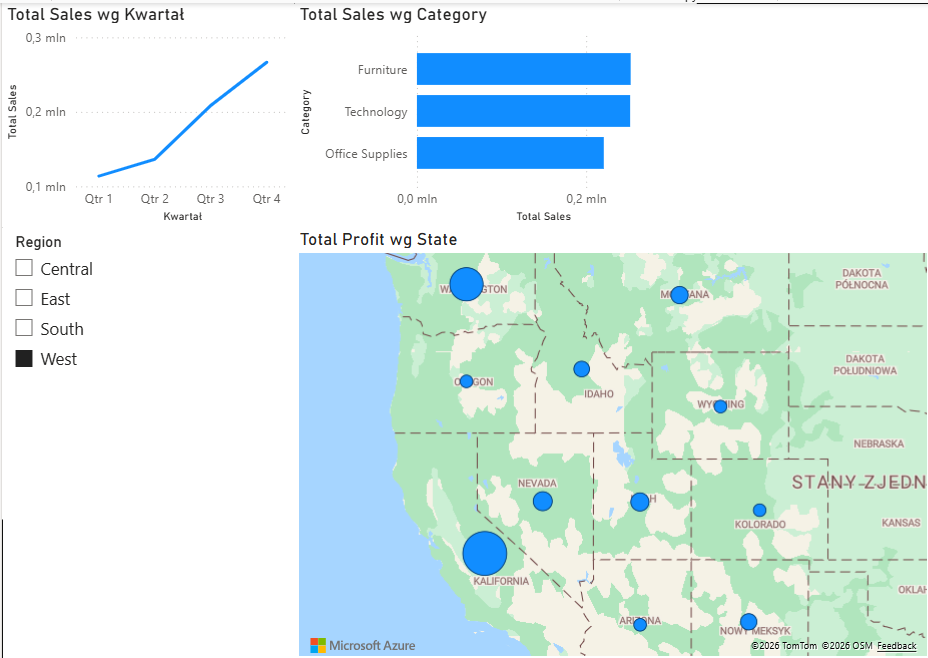

What the dashboard file says about the page in this screenshot:
{"tool":"powerbi","page":{"name":"Strona 1","canvas":[1280,720],"ordinal":0},"visuals":[{"type":"lineChart","fields":{"Category":["Calendar.Date.Odmiana.Hierarchia dat.Rok","Calendar.Date.Odmiana.Hierarchia dat.Kwartał","Calendar.Date.Odmiana.Hierarchia dat.Miesiąc","Calendar.Date.Odmiana.Hierarchia dat.Dzień"],"Y":["Superstore.Total Sales"]},"box":[0,0,281,216.1],"z":0},{"type":"slicer","fields":{"Values":["Superstore.Region"]},"box":[0,216.1,281,279.8],"z":2},{"type":"clusteredBarChart","fields":{"Category":["Superstore.Category"],"Y":["Superstore.Total Sales"]},"box":[281,0,386.6,216.1],"z":3},{"type":"azureMap","fields":{"Category":["Superstore.State"],"Size":["Superstore.Total Profit"]},"box":[281,216.1,612.4,416.7],"z":4}]}

Visuals, with their boxes on the page's 1280x720 design canvas (x1, y1, x2, y2). These are canvas units, not pixel positions in the 928x658 screenshot, which may show the page scaled, cropped or inside an application window:
lineChart - Calendar.Date.Odmiana.Hierarchia dat.Rok x Calendar.Date.Odmiana.Hierarchia dat.Kwartał: select_region(0, 0, 281, 216)
slicer - Superstore.Region: select_region(0, 216, 281, 496)
clusteredBarChart - Superstore.Category x Superstore.Total Sales: select_region(281, 0, 668, 216)
azureMap - Superstore.State x Superstore.Total Profit: select_region(281, 216, 893, 633)
